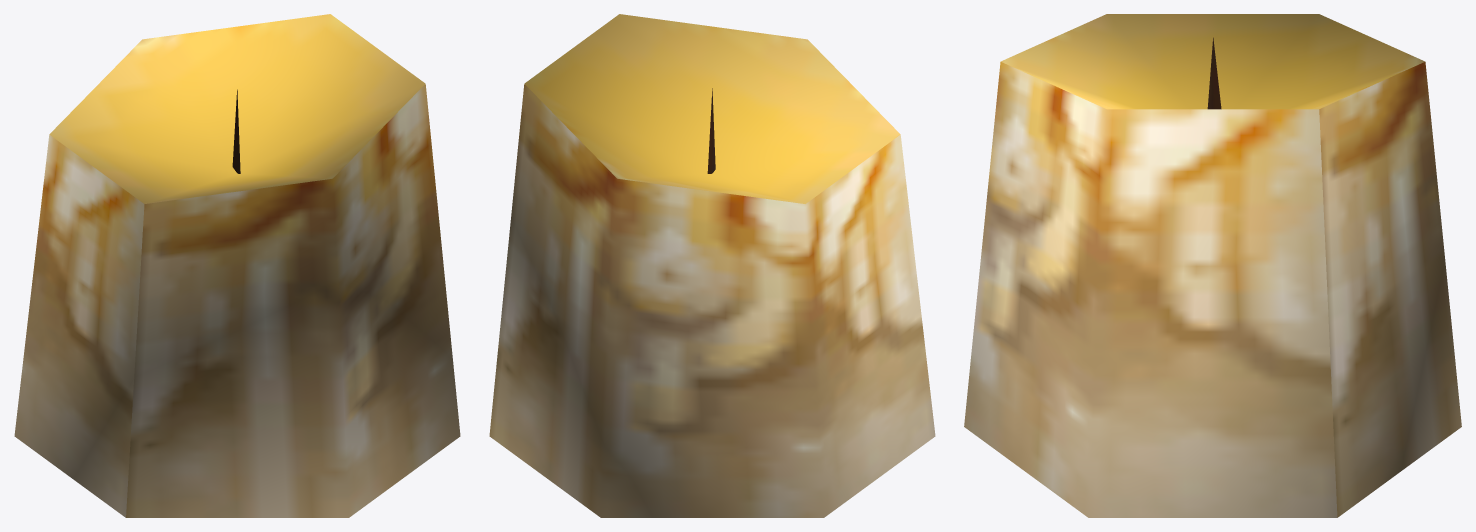
The model's file is candle02.obj.
The picture shows the model from 3 angles, left to right: view 1: azimuth 30°, elevation 25°; view 2: azimuth 150°, elevation 25°; view 3: azimuth 270°, elevation 25°; orthographic projection. The views are drawn at different scales.
Visible parts, largest first — view 1: CANDLE020; view 2: CANDLE020; view 3: CANDLE020.
Boxes of the visible parts, <box> form: CANDLE020: <box>14,14,460,517</box>; CANDLE020: <box>489,14,935,517</box>; CANDLE020: <box>964,14,1461,517</box>.
Size of the model in its own units: 0.4425 by 0.4464 by 0.5109.
Materials: 1 (1 with a texture image).
